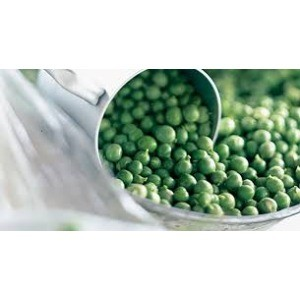green pea_brain food: (138, 106, 253, 204)
